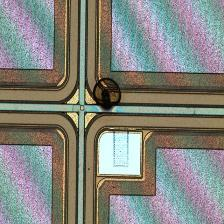PARTICLE: (90, 77, 126, 113)
